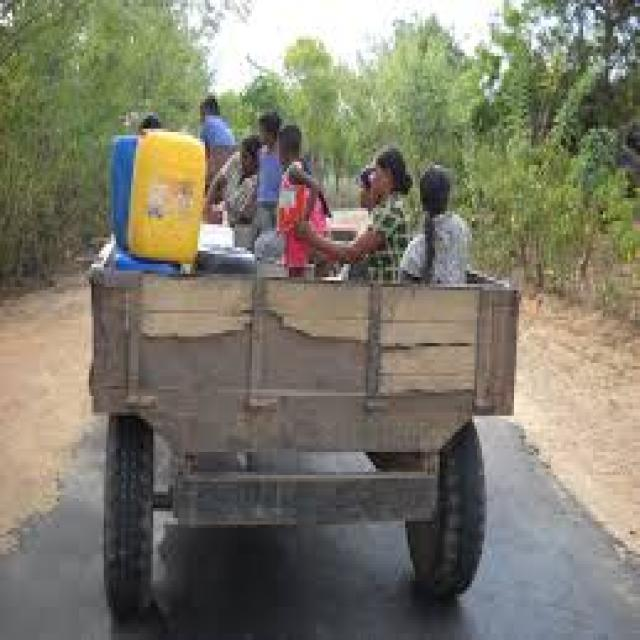person: (306, 152, 410, 280), (400, 165, 469, 284), (277, 129, 309, 277), (225, 135, 257, 251), (200, 96, 232, 188), (259, 112, 279, 228), (208, 152, 240, 214), (356, 165, 373, 211)
tractor: (89, 257, 516, 610)
